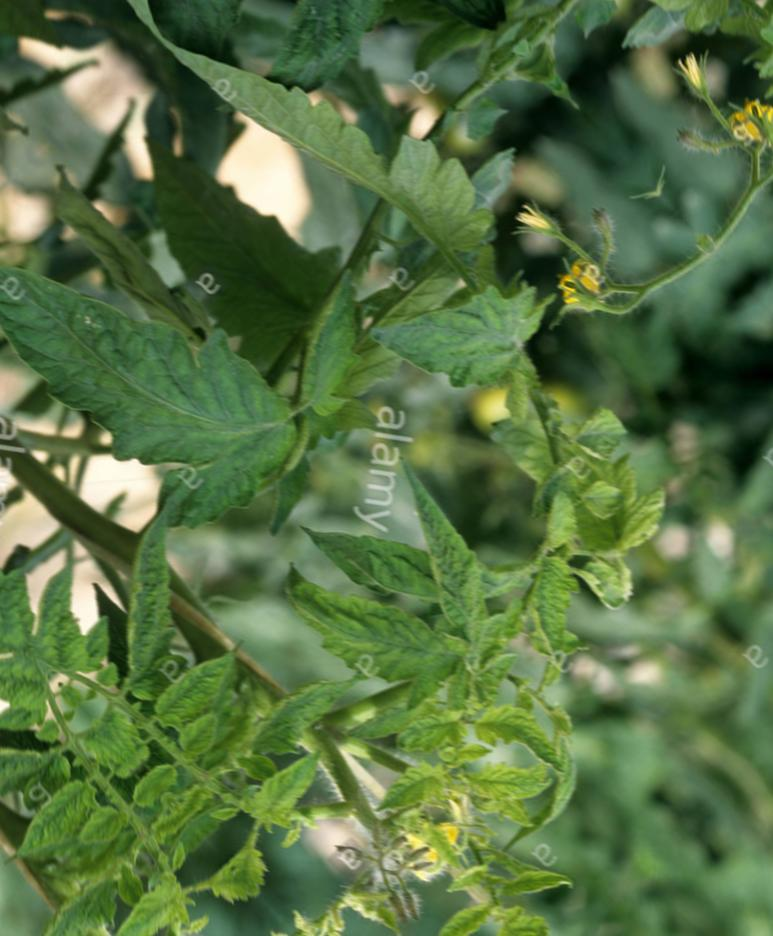Tomato leaf yellow virus: (0, 397, 369, 883), (110, 0, 562, 383), (0, 178, 314, 549), (325, 449, 557, 689)
